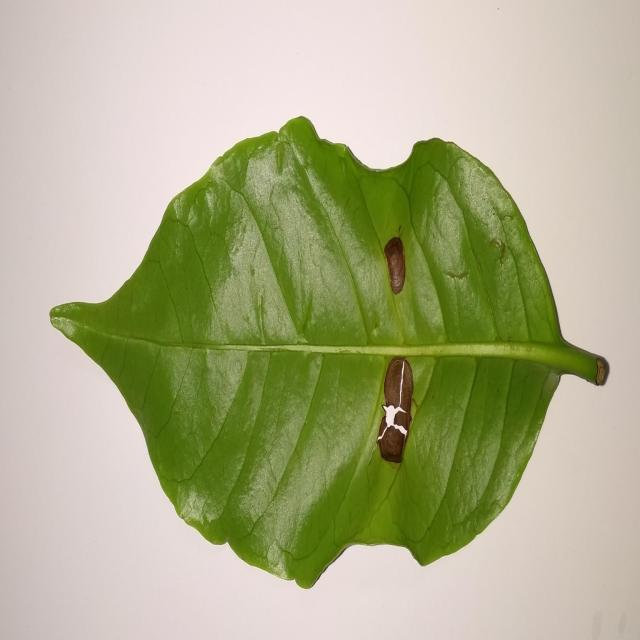Enfermedad-Antracnosis: (48, 117, 612, 592)
